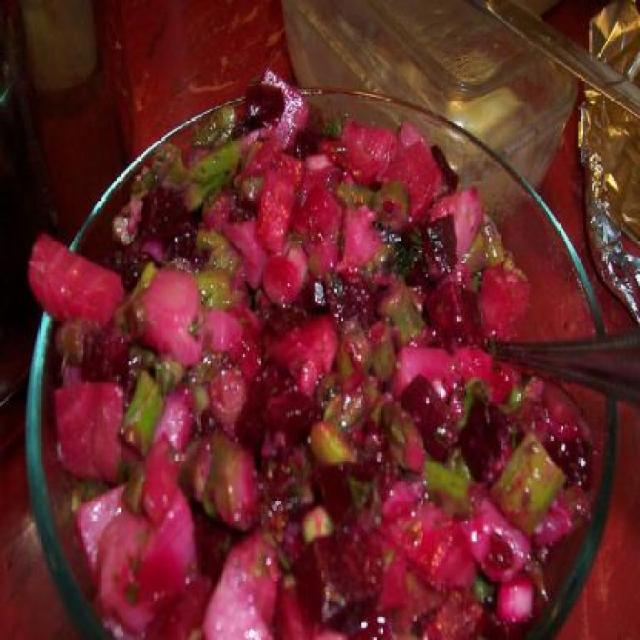Salad: (26, 69, 588, 640)
